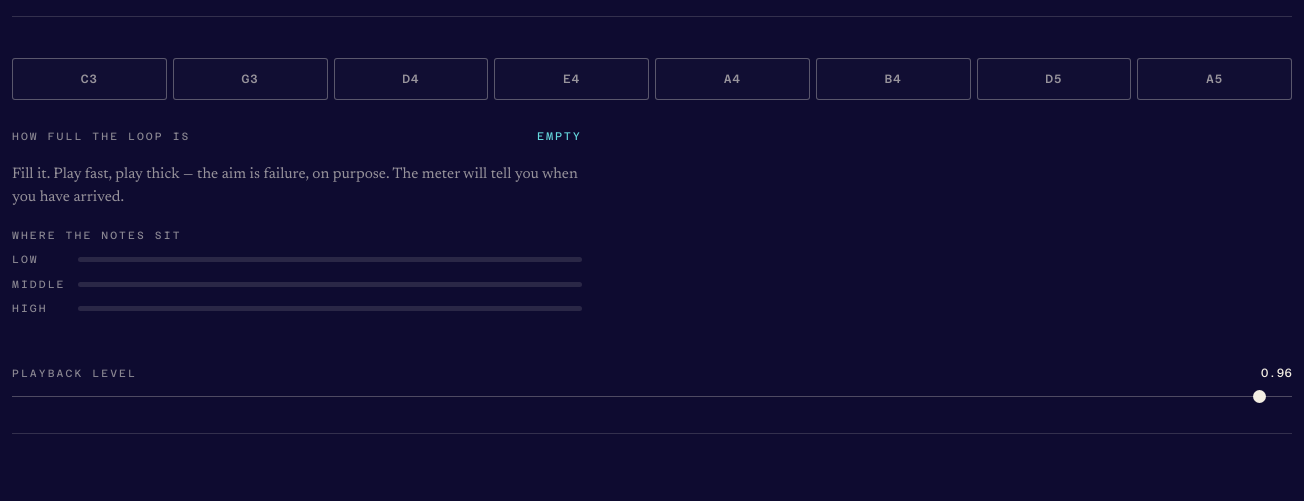
Test: AvoidingMud › middle-only playing crowds the middle: the bar goes hot and the verdict says so
Press the mouse on the button "D4" at {"x": 411, "y": 79}, box x1=334 y1=58 x2=488 y2=100
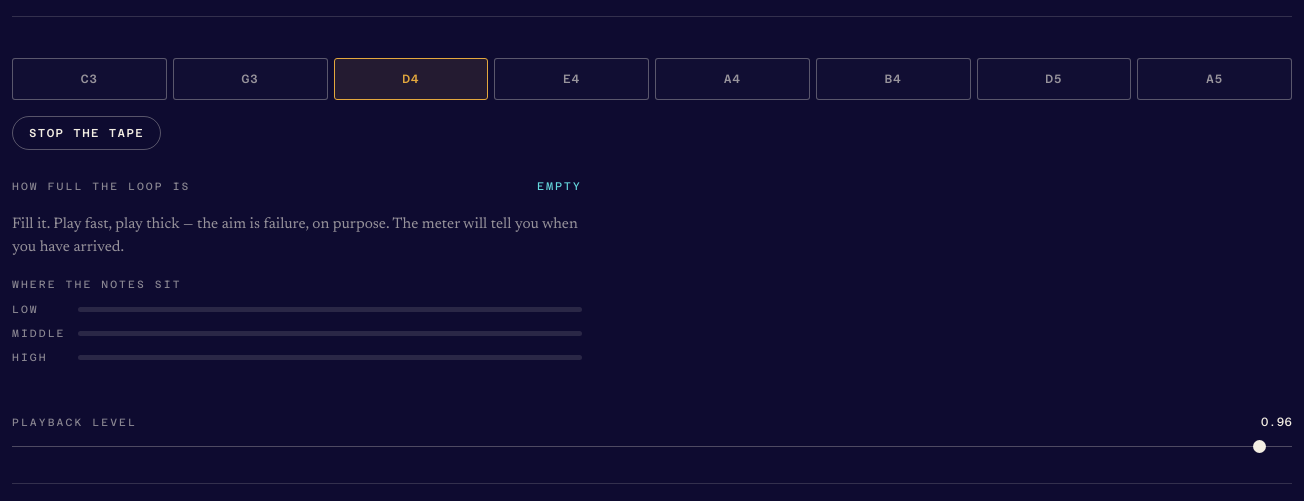
Press the mouse on the button "E4" at {"x": 572, "y": 79}, box x1=494 y1=58 x2=649 y2=100
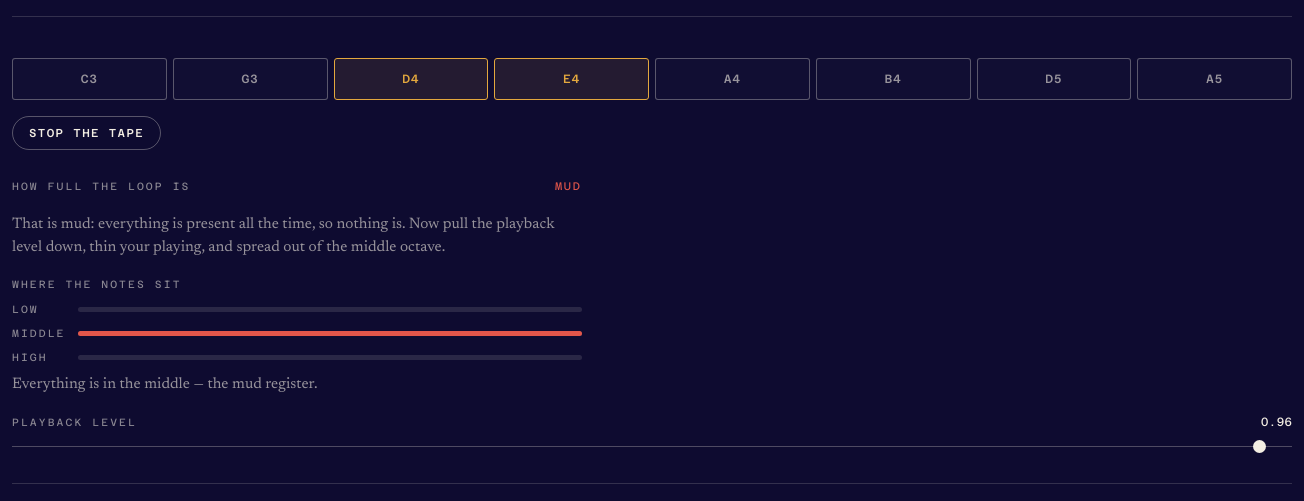
Now the text "Everything is in the middle — the mud register." is shown, box x1=12 y1=377 x2=318 y2=392
